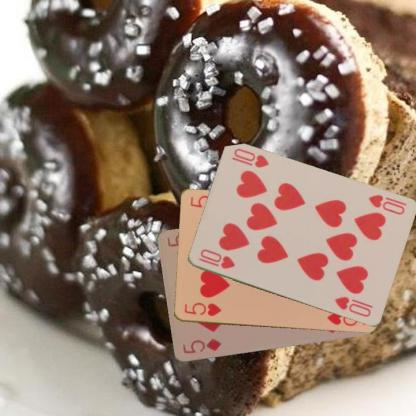10h: (195, 246, 236, 271), (365, 192, 406, 216)
5d: (180, 336, 223, 355)
5h: (182, 300, 223, 318)
